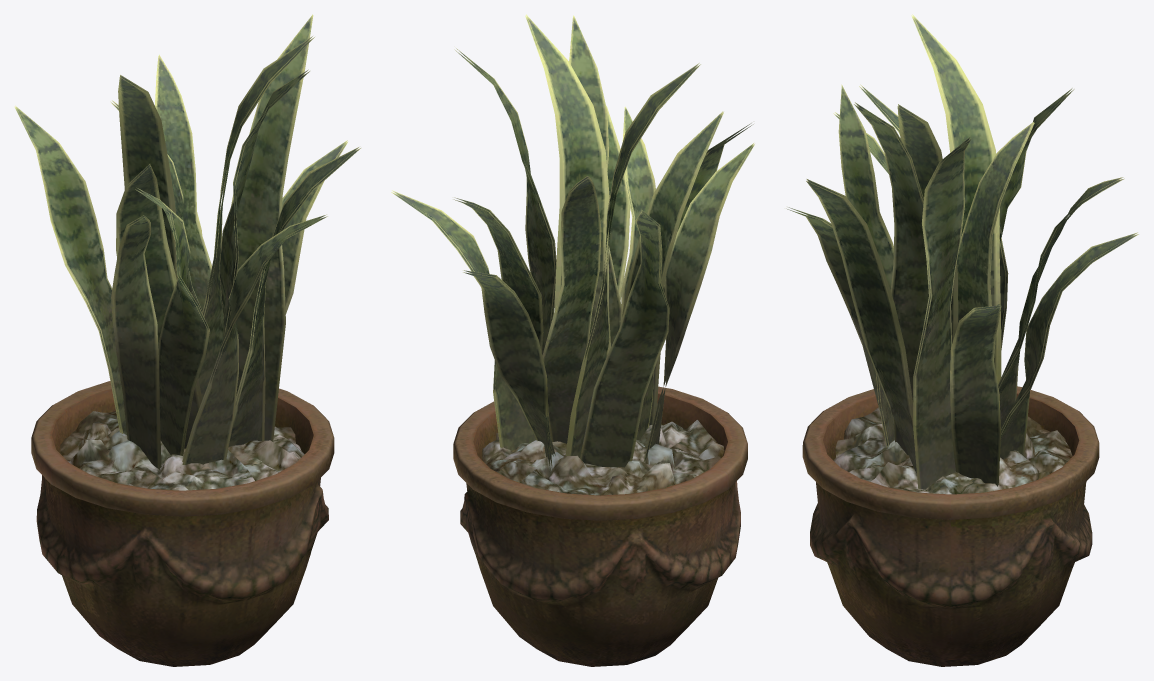
Rendered from sm10_007_outdoorplant01a.fbx.
3 renders of one model, left to right at view 1: azimuth 30°, elevation 25°; view 2: azimuth 150°, elevation 25°; view 3: azimuth 270°, elevation 25°, orthographic. The views are drawn at different scales.
Parts seen in each view (by area): view 1: LOD_1_Group_0_Sub_1__sm10_007_outdoorPlant01A_A_Mat; view 2: LOD_1_Group_0_Sub_1__sm10_007_outdoorPlant01A_A_Mat; view 3: LOD_1_Group_0_Sub_1__sm10_007_outdoorPlant01A_A_Mat.
Part boxes in pixels (left/top/right/bottom): LOD_1_Group_0_Sub_1__sm10_007_outdoorPlant01A_A_Mat: left=14, top=14, right=360, bottom=666; LOD_1_Group_0_Sub_1__sm10_007_outdoorPlant01A_A_Mat: left=391, top=14, right=754, bottom=666; LOD_1_Group_0_Sub_1__sm10_007_outdoorPlant01A_A_Mat: left=786, top=14, right=1138, bottom=666.
Size of the model in its own units: 0.7083 by 1.25 by 0.6918.
